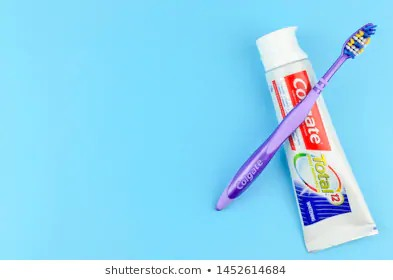colgate-total-150gm: (250, 24, 382, 253)
toothbrush: (318, 17, 375, 93)
